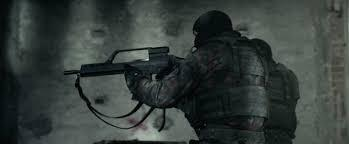rifle: (61, 45, 192, 86)
